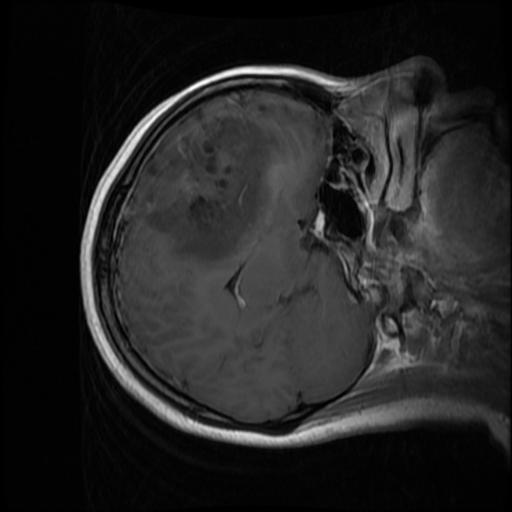glioma: (123, 113, 289, 261)
